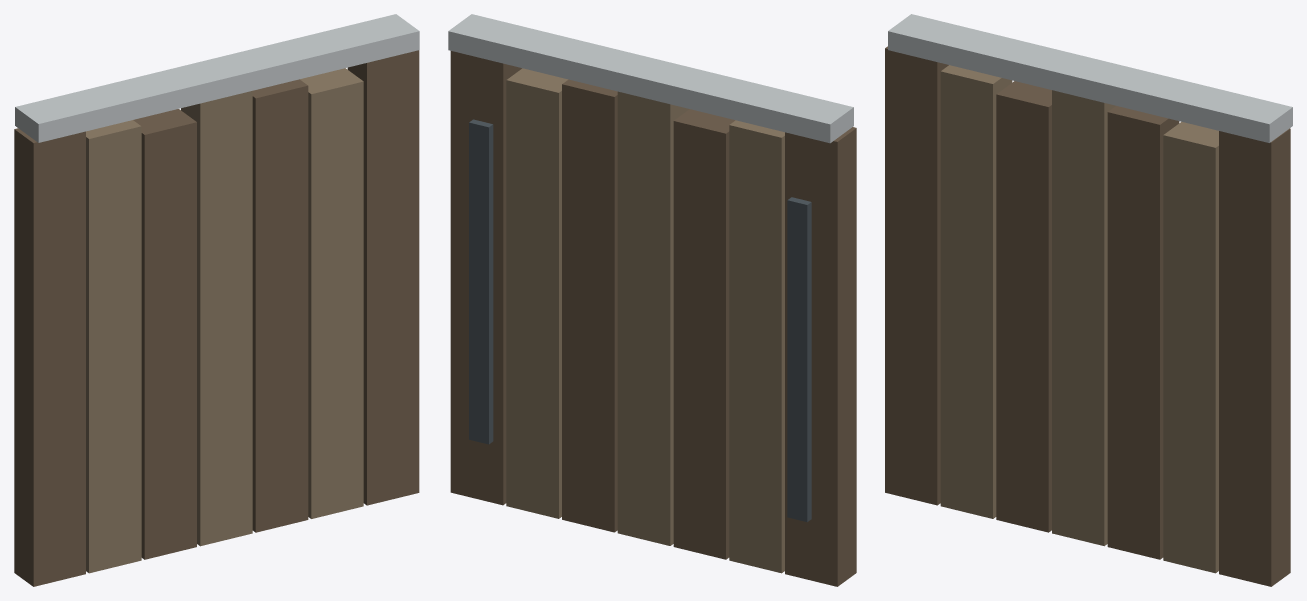
Rendered from garage_door_leaf.glb.
3 views of the same model, side by side, from view 1: azimuth 30°, elevation 25°; view 2: azimuth 150°, elevation 25°; view 3: azimuth 330°, elevation 25° (orthographic).
Visible parts, largest first — view 1: garage_door_leaf; view 2: garage_door_leaf; view 3: garage_door_leaf.
Boxes of the visible parts, x1=… form: garage_door_leaf: x1=14, y1=14, x2=419, y2=586; garage_door_leaf: x1=448, y1=14, x2=856, y2=586; garage_door_leaf: x1=885, y1=14, x2=1292, y2=586.
Size of the model in its own units: 1.92 by 2.2 by 0.2112.
